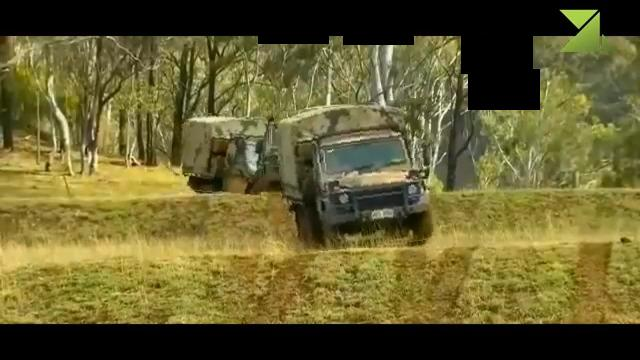MIL_HMMWV: (277, 100, 438, 251), (180, 113, 267, 196)
